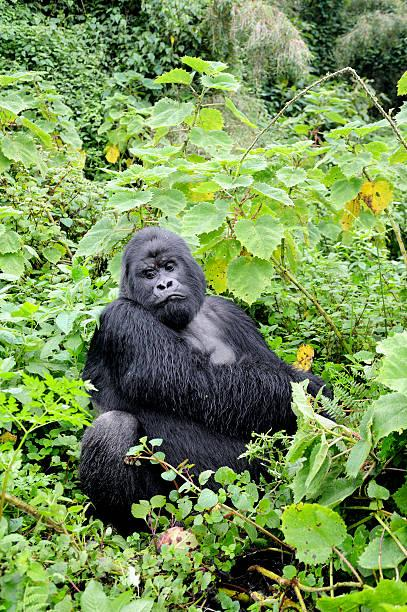goriile_montagne: (77, 227, 357, 523)
